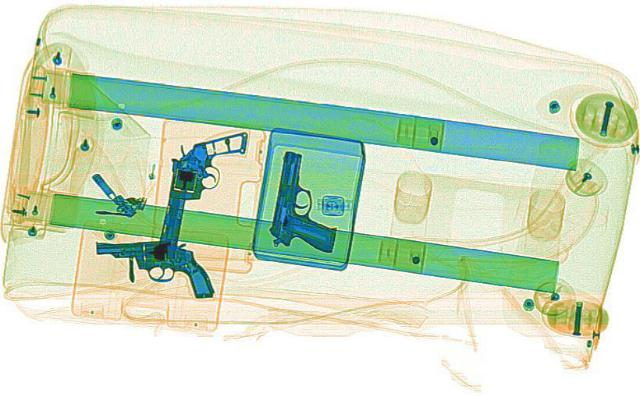Gun: (142, 121, 255, 254), (94, 226, 214, 309), (264, 149, 350, 252)
